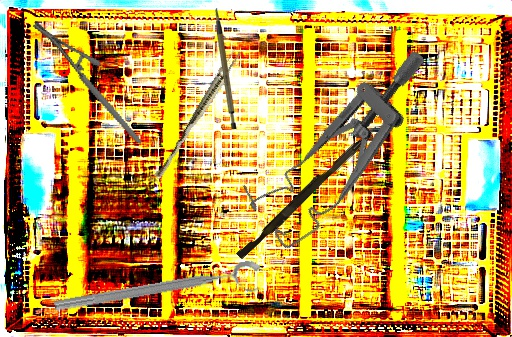Fixation Ring: (52, 259, 265, 328)
Needle Holder: (30, 1, 143, 165)
Pusher: (236, 120, 379, 263)
Scalpel Handle: (215, 8, 238, 129)
Speculum: (227, 46, 470, 255)
Tissue Forceps: (153, 46, 243, 183)
